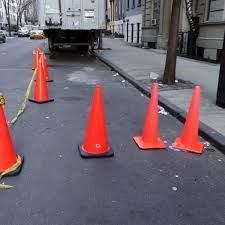car: (29, 29, 45, 39), (17, 27, 30, 37), (0, 30, 6, 44)
traffic cone: (78, 82, 114, 159), (132, 82, 167, 150), (172, 85, 205, 154), (0, 91, 24, 180), (28, 55, 54, 104), (41, 53, 53, 83)
